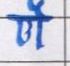ai_matra: (28, 0, 47, 18)
